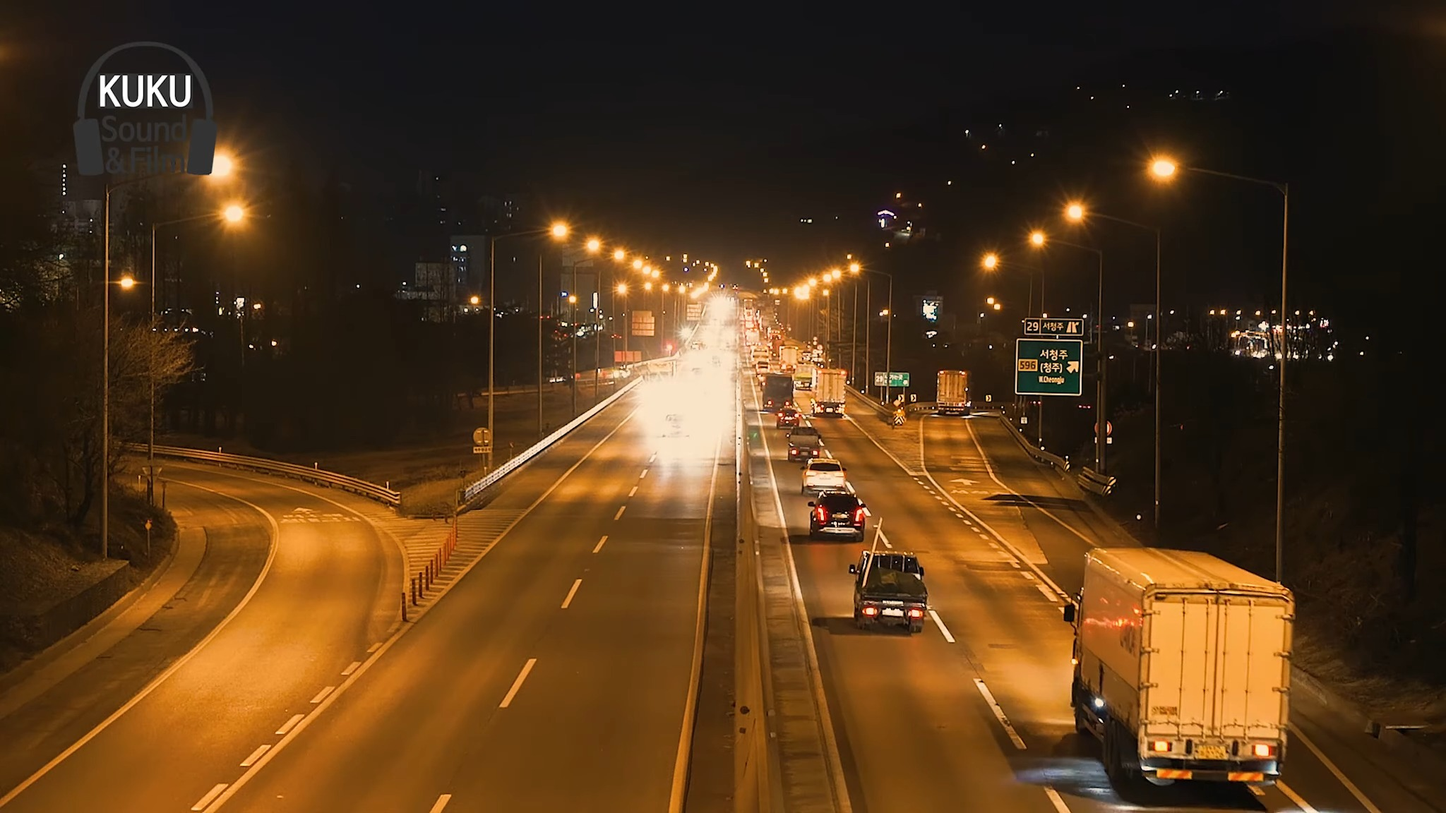car: (809, 491, 870, 546), (802, 452, 845, 497)
truck: (1070, 533, 1299, 797), (851, 547, 929, 635)
